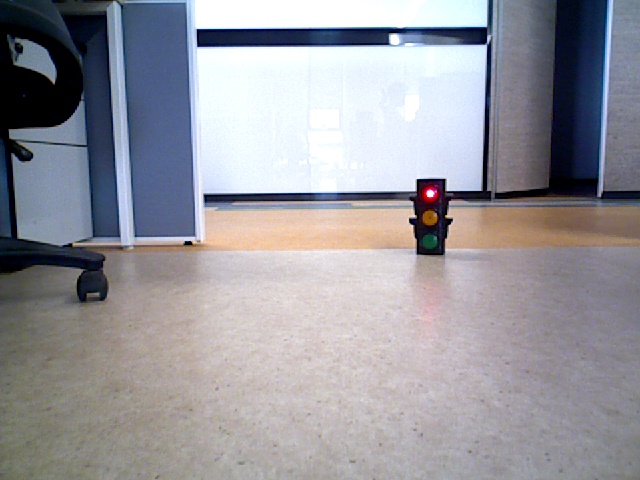red: (418, 178, 442, 253)
